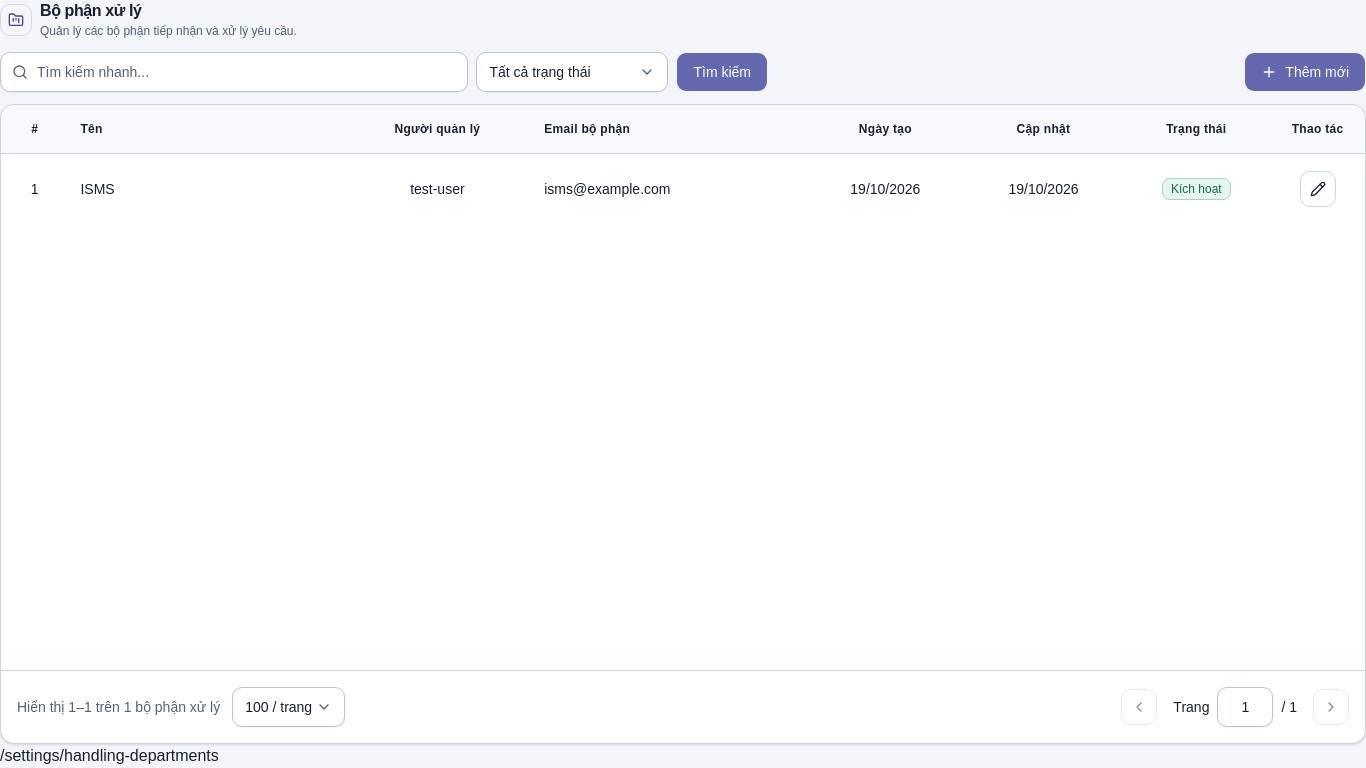
Test: creates handling-departments with the V2 write contract
Expected: the table named "Bảng cấu hình" is shown, [1, 105, 1365, 225]
Step 1. Click the button "Thêm mới" → (1305, 72), box [1244, 52, 1365, 92]
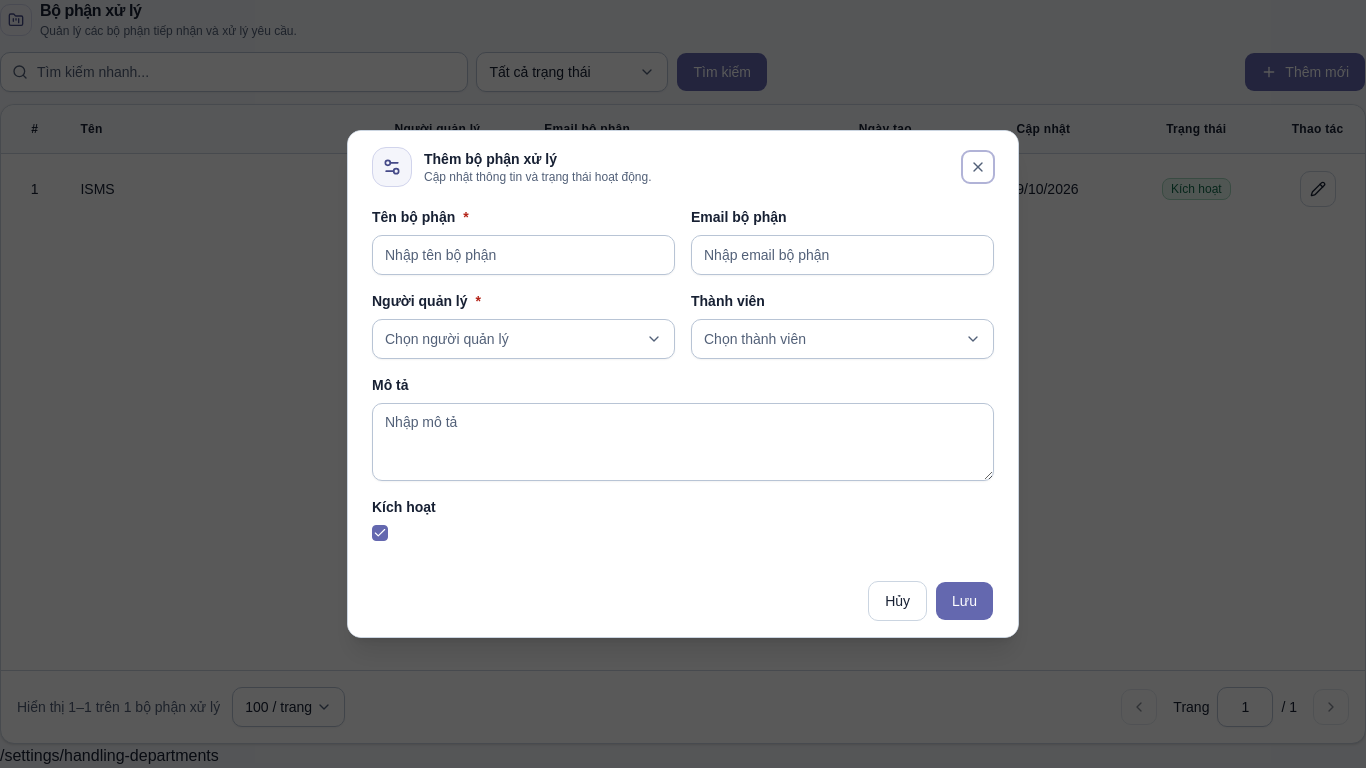
Now the button "Lưu" is enabled, box [935, 581, 994, 621]
Step 2. Type "Tên mới" into the field labelled "Tên bộ phận *" → (524, 255), box [372, 235, 675, 275]
Step 3. Type "new-group@example.com" into the field labelled "Email bộ phận" → (842, 255), box [691, 235, 994, 275]
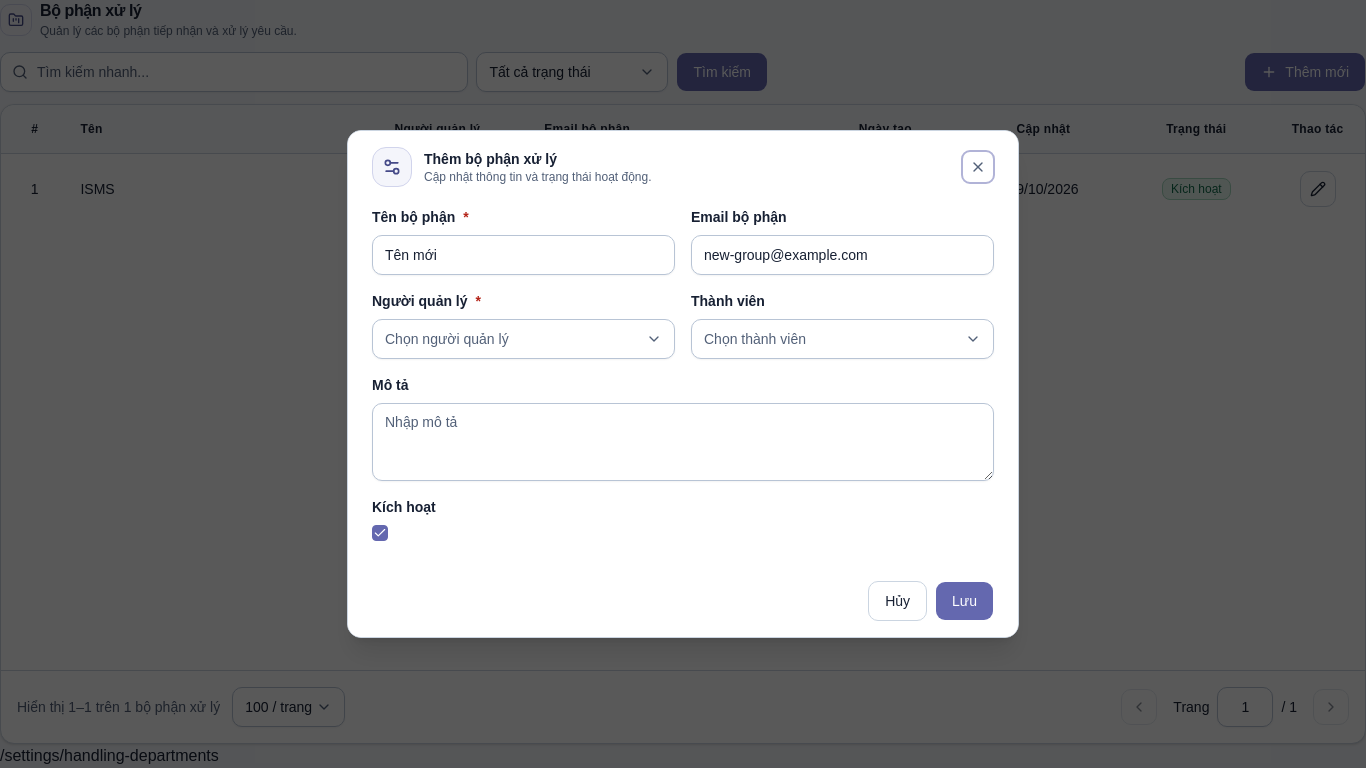
Step 4. Click the dropdown labelled "người quản lý" → (447, 339), box [372, 319, 675, 359]
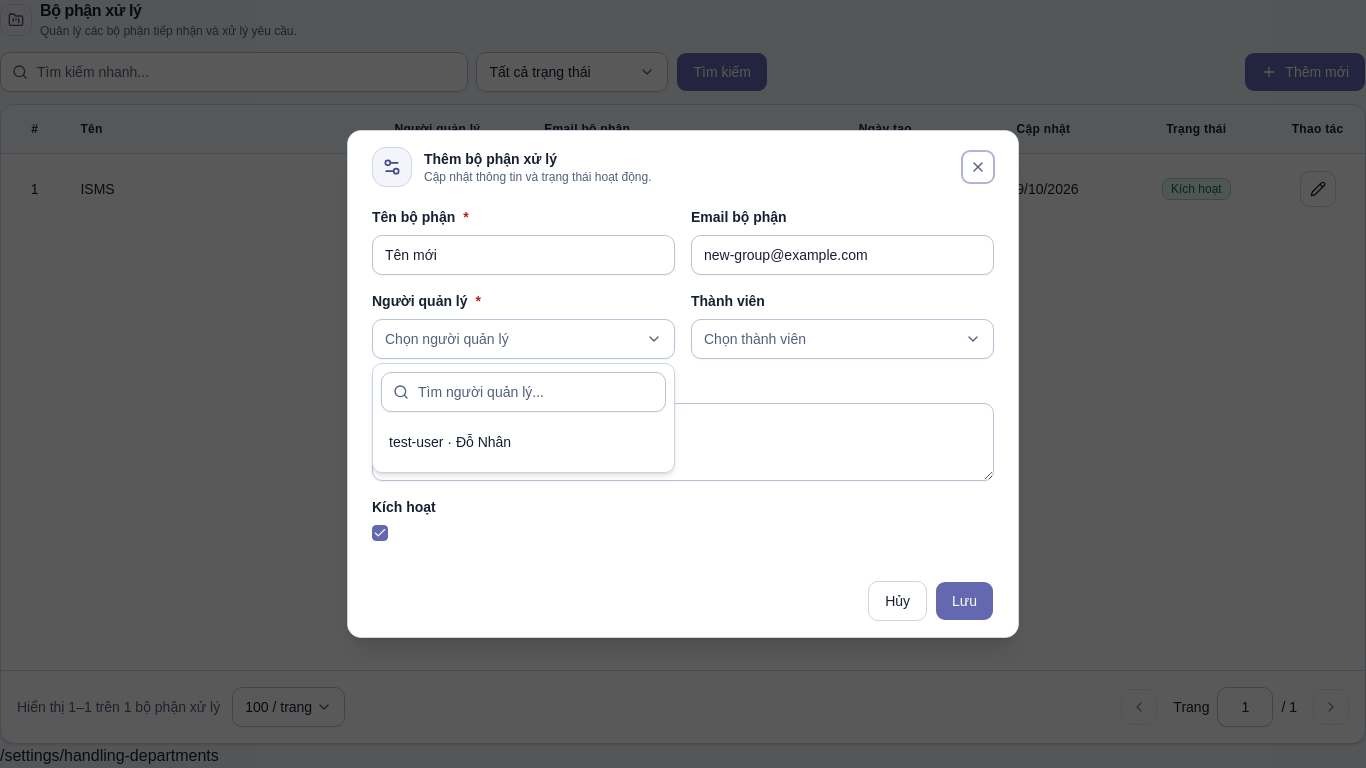
Step 5. Click the option "test-user · Đỗ Nhân" → (450, 442), box [389, 434, 511, 450]
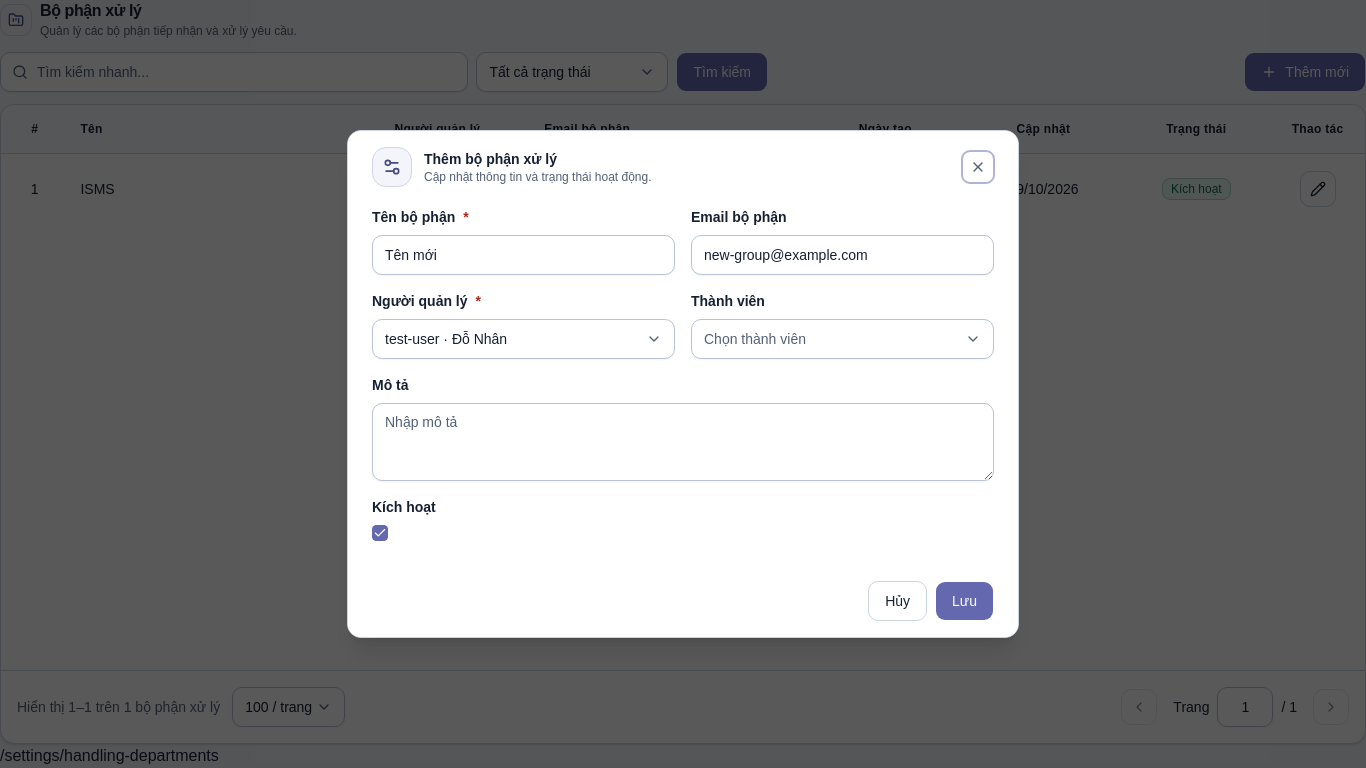
Now the list is gone
Step 6. Type "New description" into the text box labelled "Mô tả" → (683, 442), box [372, 403, 994, 481]
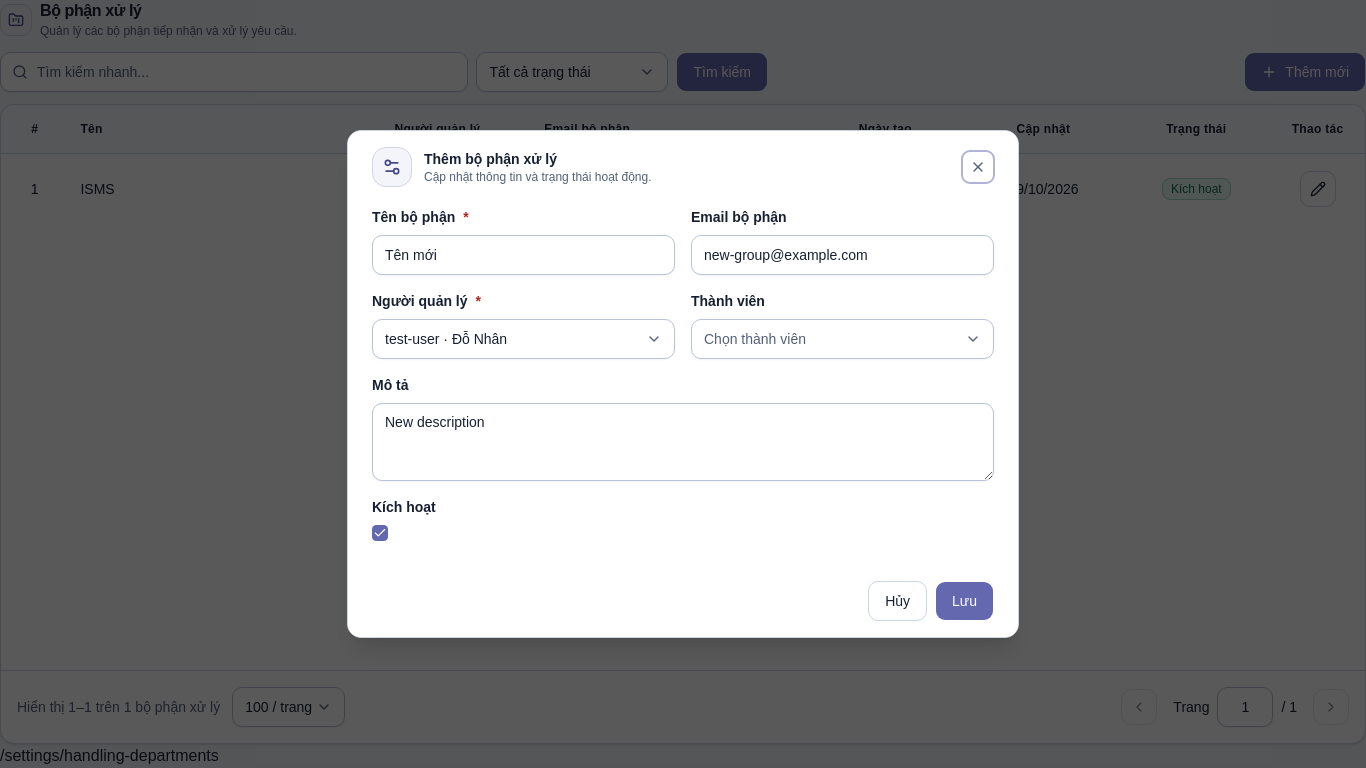
Step 7. Click the button "Lưu" → (964, 601), box [935, 581, 994, 621]
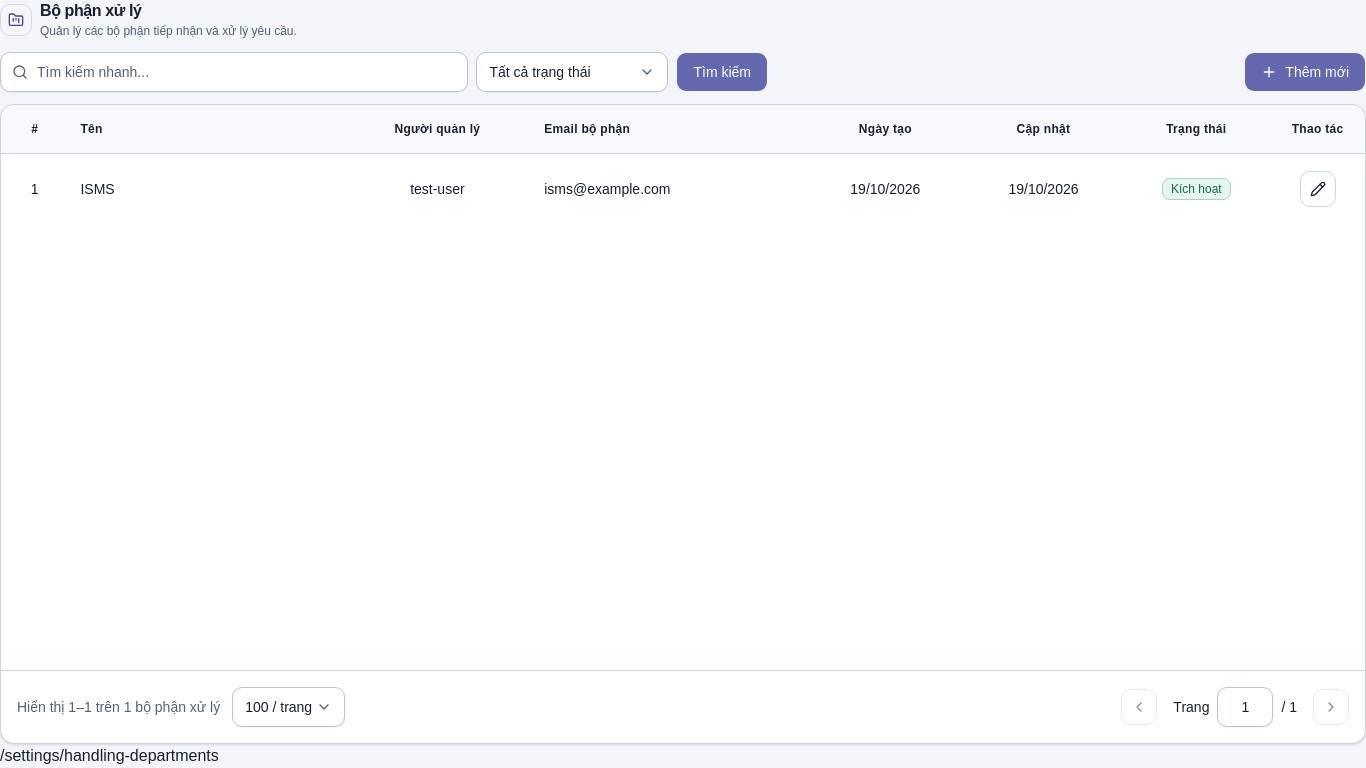
Now the dialog is gone
